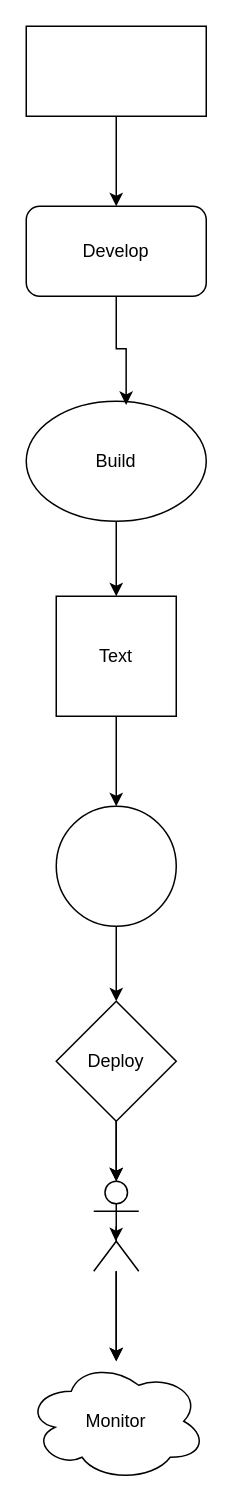
This 233x1508 diagram has some shape labels left out. Here are the shapes that lost their labels. From the top down, the centre of each, then its label:
At (x=115, y=70): "Plan".
At (x=115, y=865): "Relese".
At (x=115, y=1225): "Operate".
